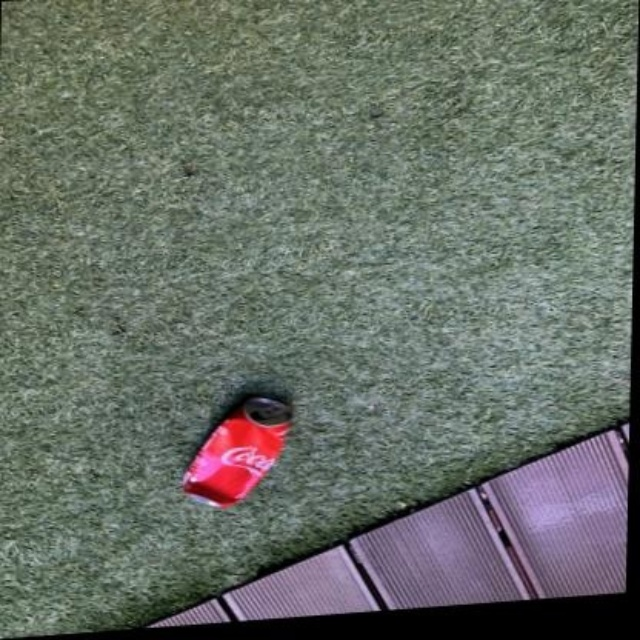trash: (183, 397, 291, 506)
